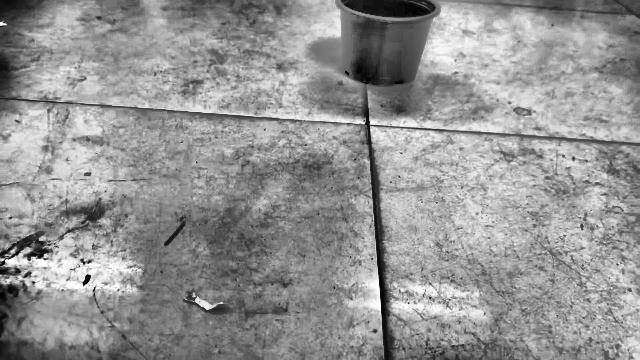pot: (336, 0, 439, 85)
